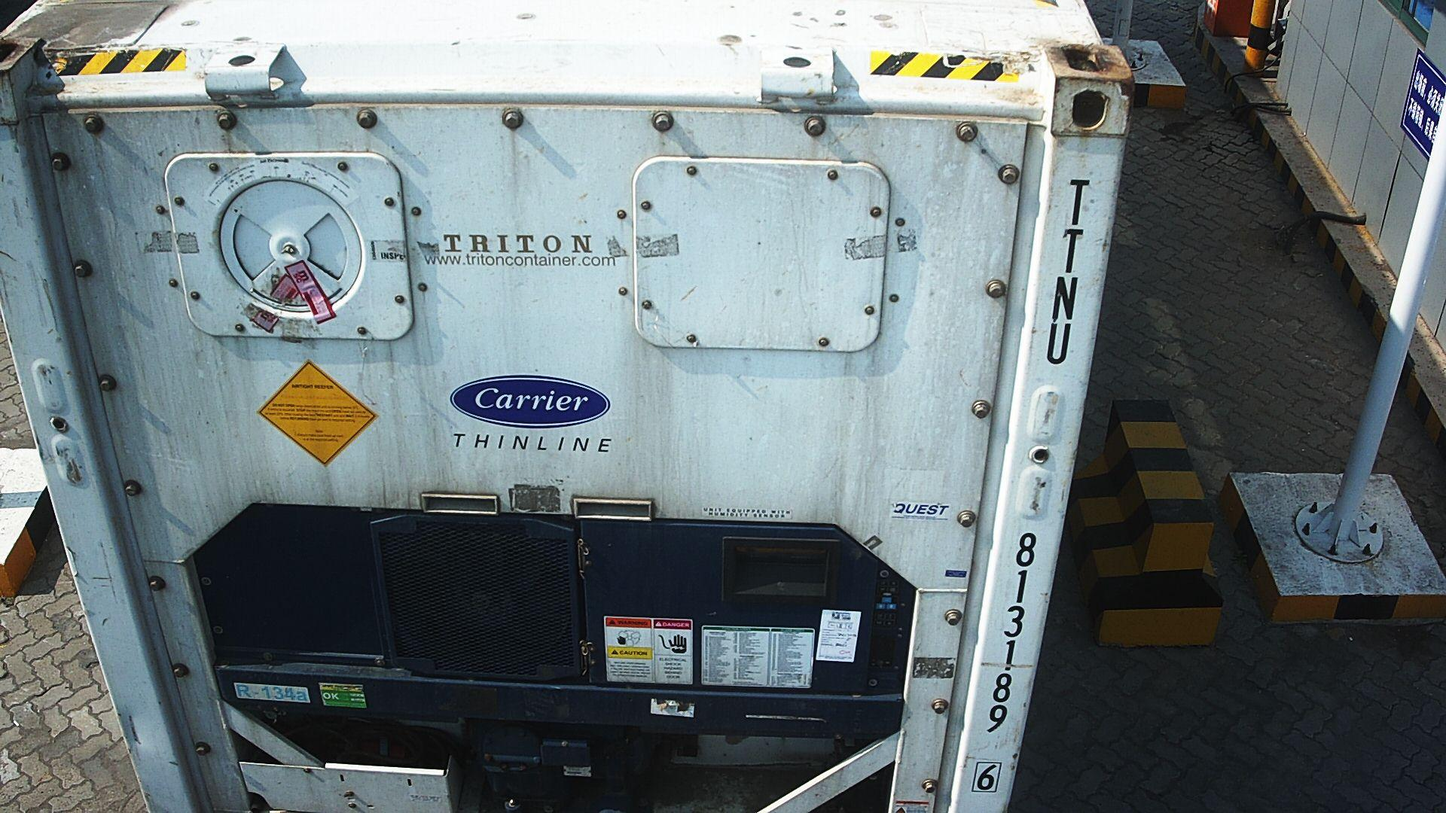container-numbers: (968, 528, 1045, 798), (1038, 169, 1095, 368)
